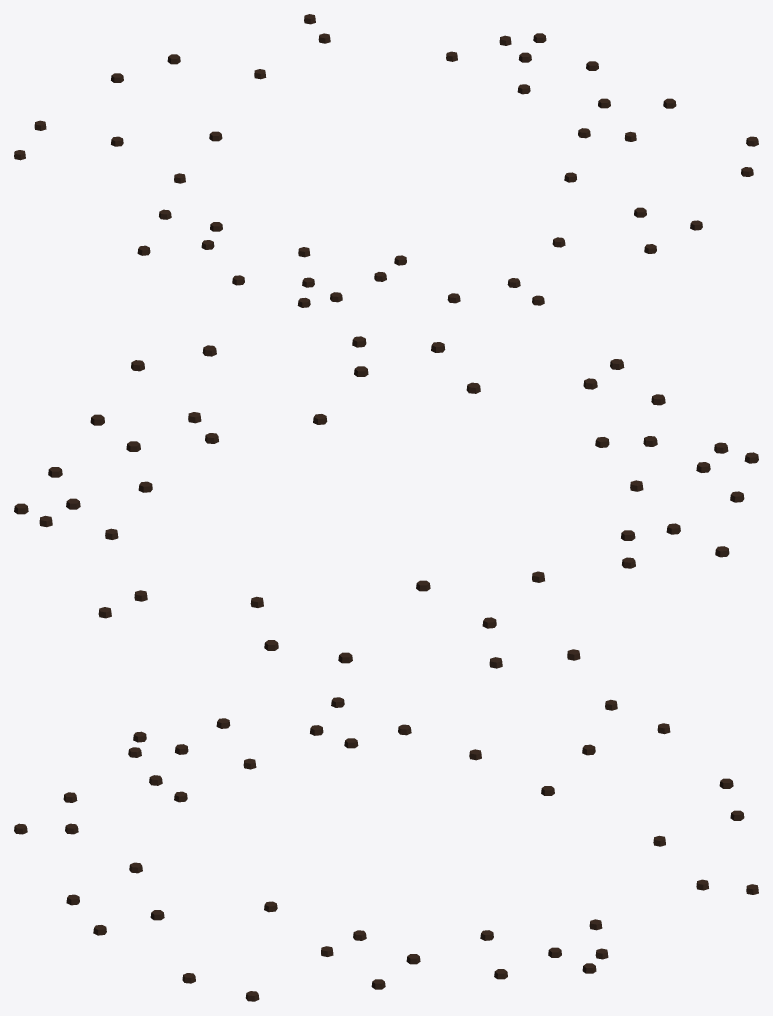
Rendered from pohon tumbang.fbx.
3 renders of one model, top to bottom at view 1: azimuth 30°, elevation 25°; view 2: azimuth 150°, elevation 25°; view 3: azimuth 270°, elevation 25°, orthographic. The views are drawn at different scales.
Parts seen in each view (by area): view 1: Forest_Stumps; view 2: Forest_Stumps; view 3: Forest_Stumps.
Boxes of the visible parts, left/top/right/bottom form: Forest_Stumps: left=14, top=14, right=758, bottom=307; Forest_Stumps: left=14, top=336, right=758, bottom=668; Forest_Stumps: left=14, top=697, right=758, bottom=1001.
Size of the model in its own units: 5259 by 44.63 by 5531.
